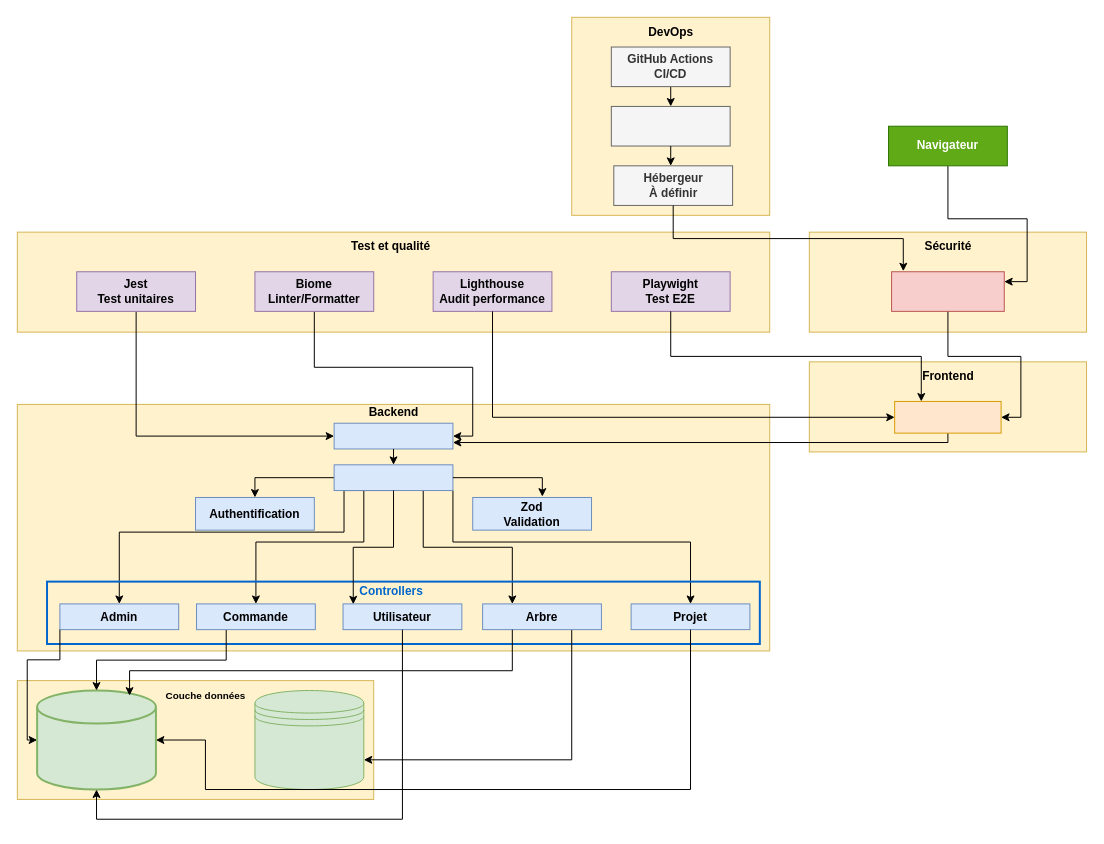
The diagram is 1104 pixels wide and 844 high, and some of its shapes have lost their labels. Each missing label, with the centre of its shape:
"API REST" belongs at (393,435).
"Cloudflare Reverse proxy" belongs at (947,291).
"Docker Conteneurisation" belongs at (670,125).
"Middleware" belongs at (393,477).
"PostgreSQL Base de données" belongs at (96,739).
"React" belongs at (947,416).
"Stockage fichiers Images des arbres" belongs at (309,740).
